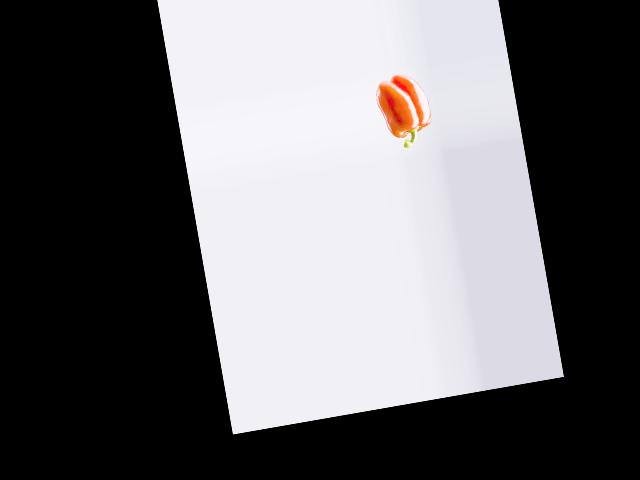bell_pepper: (372, 71, 438, 152)
